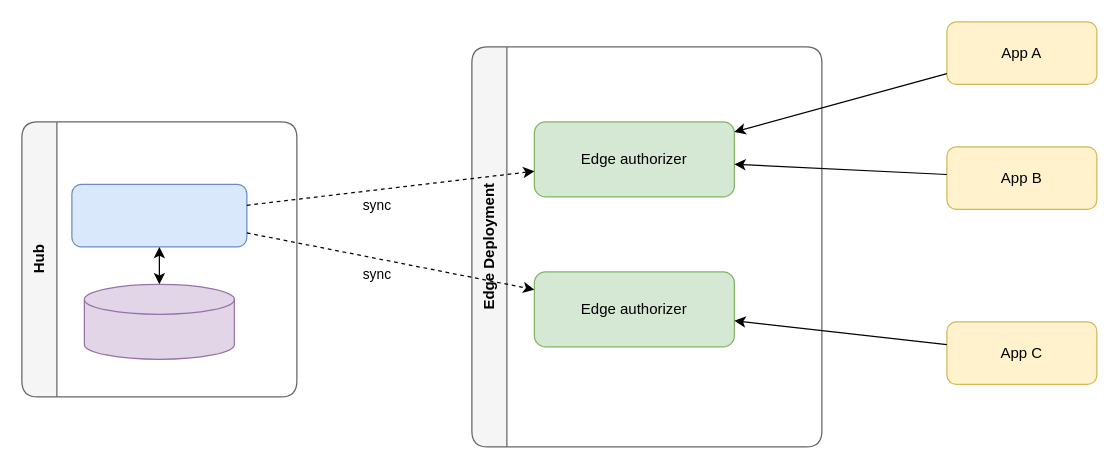
This 1119x469 diagram has some shape labels left out. The centre of each missing label's shape, as x and y in pixels:
Hub directory: point 159,215
Postgres: point 158,321
